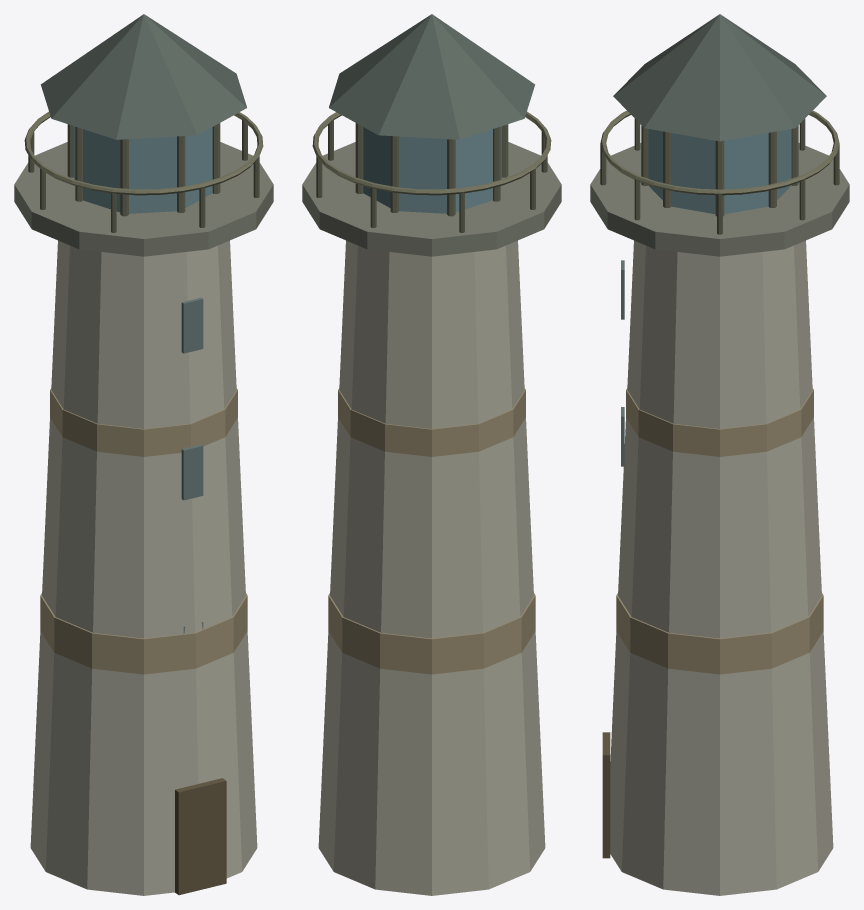
Rendered from lighthouse.glb.
The picture shows the model from 3 angles, left to right: view 1: azimuth 30°, elevation 25°; view 2: azimuth 150°, elevation 25°; view 3: azimuth 270°, elevation 25°; orthographic projection.
Parts seen in each view (by area): view 1: lighthouse; view 2: lighthouse; view 3: lighthouse.
Part boxes in pixels (x1,y1,x2,y2): lighthouse: [14, 14, 273, 895]; lighthouse: [302, 14, 561, 895]; lighthouse: [590, 14, 849, 895].
Bounding box in the file's own units: 8 × 28.4 × 8.
